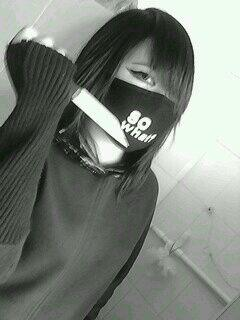OK: (108, 62, 186, 140)
